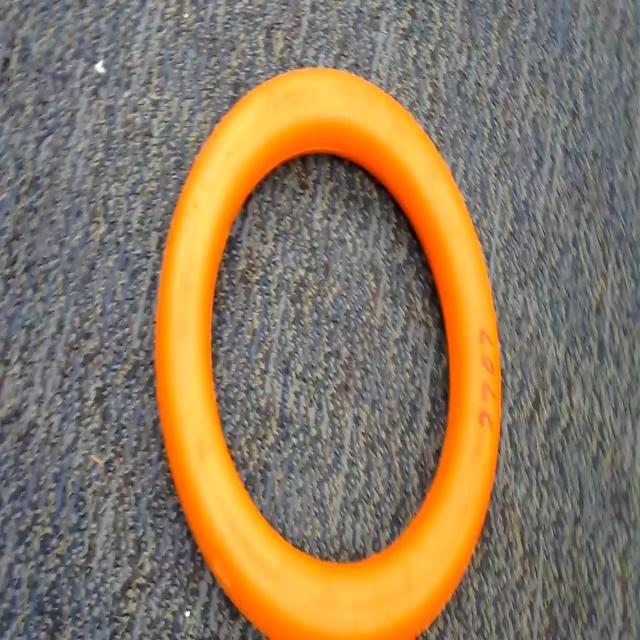note: (152, 66, 509, 640)
